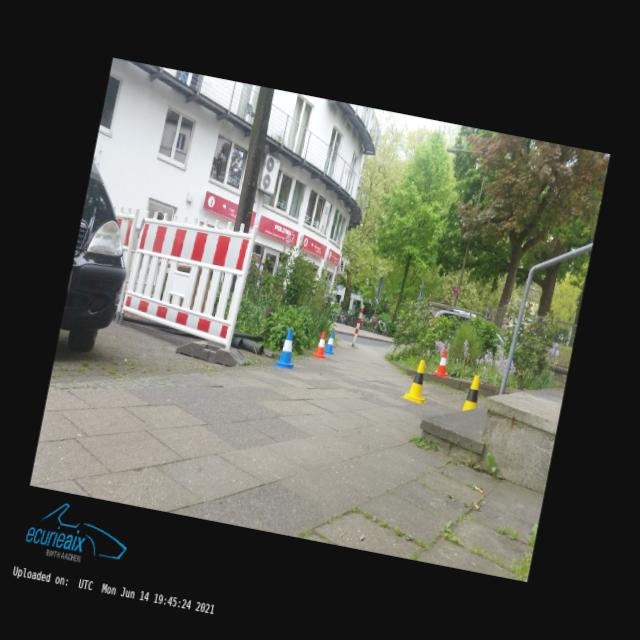blue_cone: (274, 328, 304, 370), (324, 331, 338, 355)
orange_cone: (434, 349, 452, 378), (312, 330, 330, 359)
yellow_cone: (401, 358, 434, 404), (462, 374, 482, 414)
